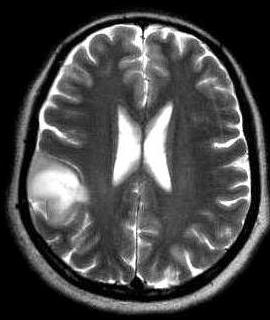Normal_Brain: (1, 1, 270, 320)
